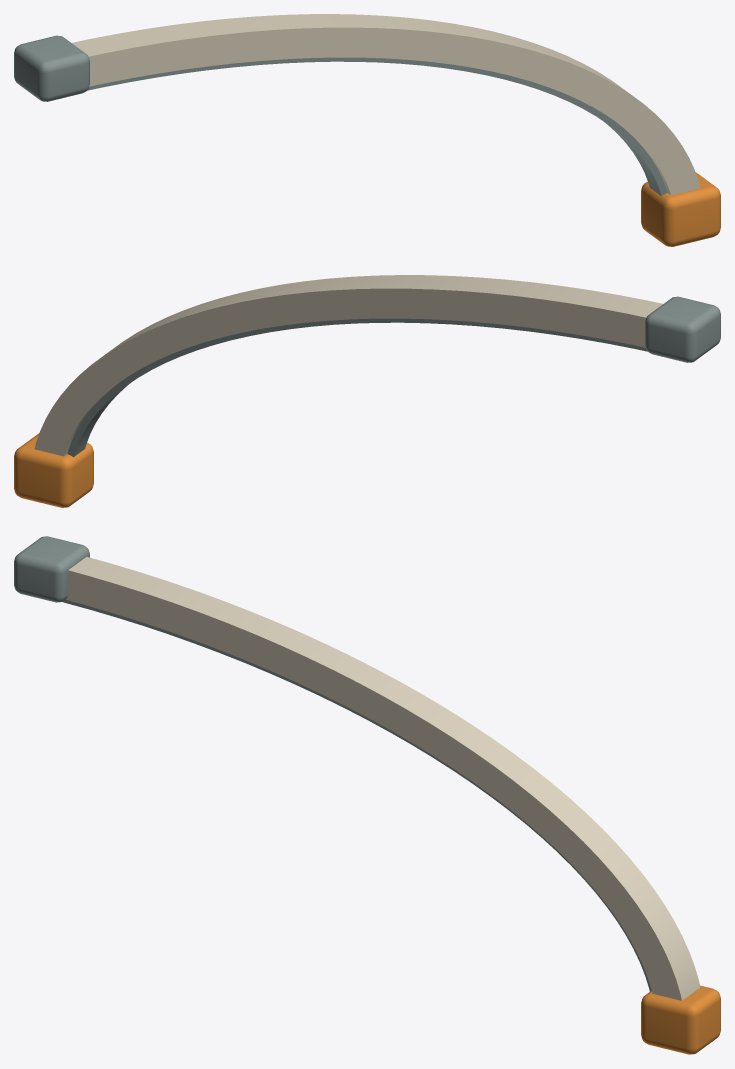
The model's file is garden-arch-half-2m.glb.
The picture shows the model from 3 angles, top to bottom: view 1: azimuth 30°, elevation 25°; view 2: azimuth 150°, elevation 25°; view 3: azimuth 330°, elevation 25°; orthographic projection.
Parts seen in each view (by area): view 1: garden-arch-half-2m / 01 • warm porcelain paint, garden-arch-half-2m / 05 • brushed titanium, garden-arch-half-2m / 03 • ochre enamel; view 2: garden-arch-half-2m / 01 • warm porcelain paint, garden-arch-half-2m / 05 • brushed titanium, garden-arch-half-2m / 03 • ochre enamel; view 3: garden-arch-half-2m / 01 • warm porcelain paint, garden-arch-half-2m / 05 • brushed titanium, garden-arch-half-2m / 03 • ochre enamel.
Part boxes in pixels (box(x1,y1,x2,y2)): garden-arch-half-2m / 01 • warm porcelain paint: box(72, 14, 700, 195); garden-arch-half-2m / 05 • brushed titanium: box(14, 35, 667, 196); garden-arch-half-2m / 03 • ochre enamel: box(641, 172, 720, 246); garden-arch-half-2m / 01 • warm porcelain paint: box(34, 275, 662, 456); garden-arch-half-2m / 05 • brushed titanium: box(67, 296, 720, 457); garden-arch-half-2m / 03 • ochre enamel: box(14, 433, 93, 507); garden-arch-half-2m / 01 • warm porcelain paint: box(66, 557, 700, 1000); garden-arch-half-2m / 05 • brushed titanium: box(14, 536, 651, 991); garden-arch-half-2m / 03 • ochre enamel: box(641, 985, 720, 1054).
Bounding box in the file's own units: 2.13 × 1.01 × 0.17.
